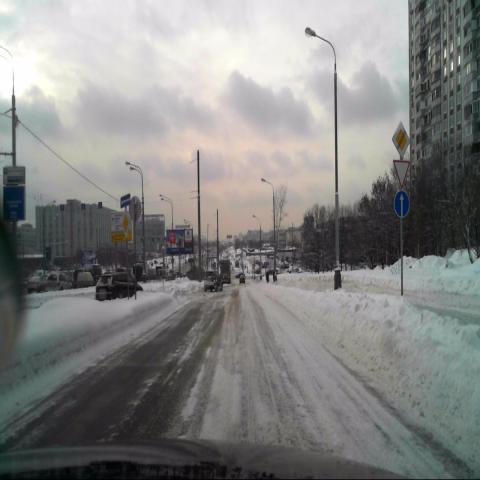2_1: (122, 208, 129, 238)
2_2: (392, 122, 409, 159)
2_4: (393, 159, 410, 189)
4_1_1: (395, 190, 409, 216)
